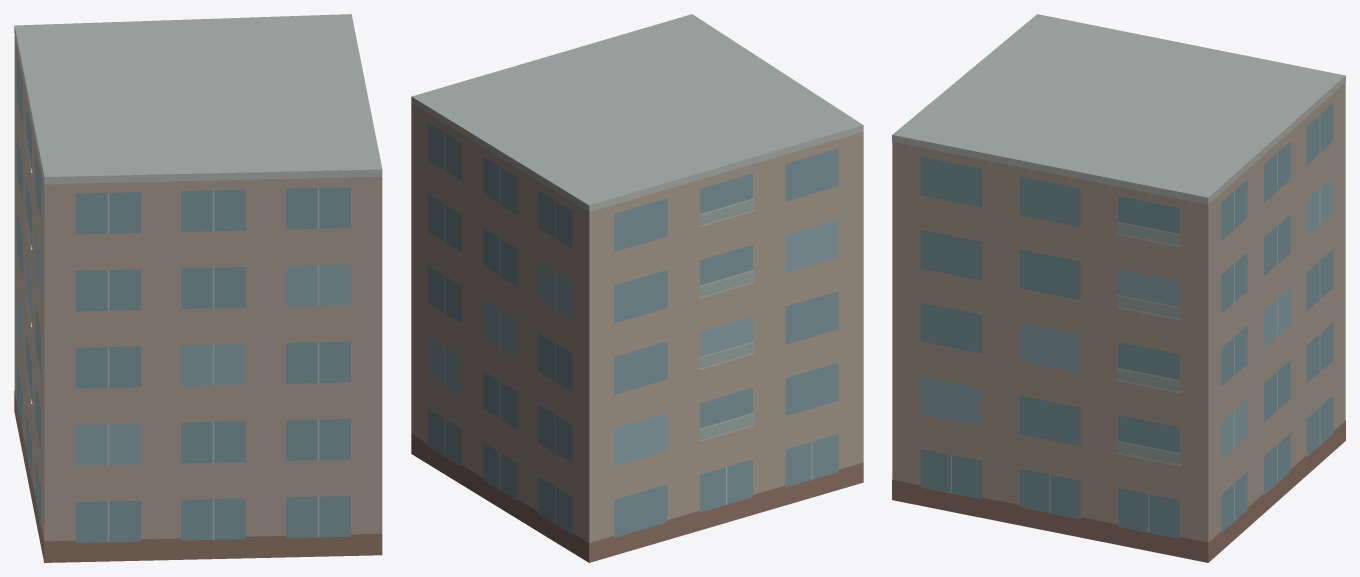
File: survey-upis-32637818.glb
3 renders of one model, left to right at view 1: azimuth 30°, elevation 25°; view 2: azimuth 150°, elevation 25°; view 3: azimuth 270°, elevation 25°, orthographic. The views are drawn at different scales.
Parts seen in each view (by area): view 1: survey-upis-32637818.tmp; view 2: survey-upis-32637818.tmp; view 3: survey-upis-32637818.tmp.
Part boxes in pixels (x1,y1,x2,y2): survey-upis-32637818.tmp: [14, 14, 382, 562]; survey-upis-32637818.tmp: [411, 14, 863, 562]; survey-upis-32637818.tmp: [892, 14, 1345, 562].
Size of the model in its own units: 14.03 by 13 by 14.64.
